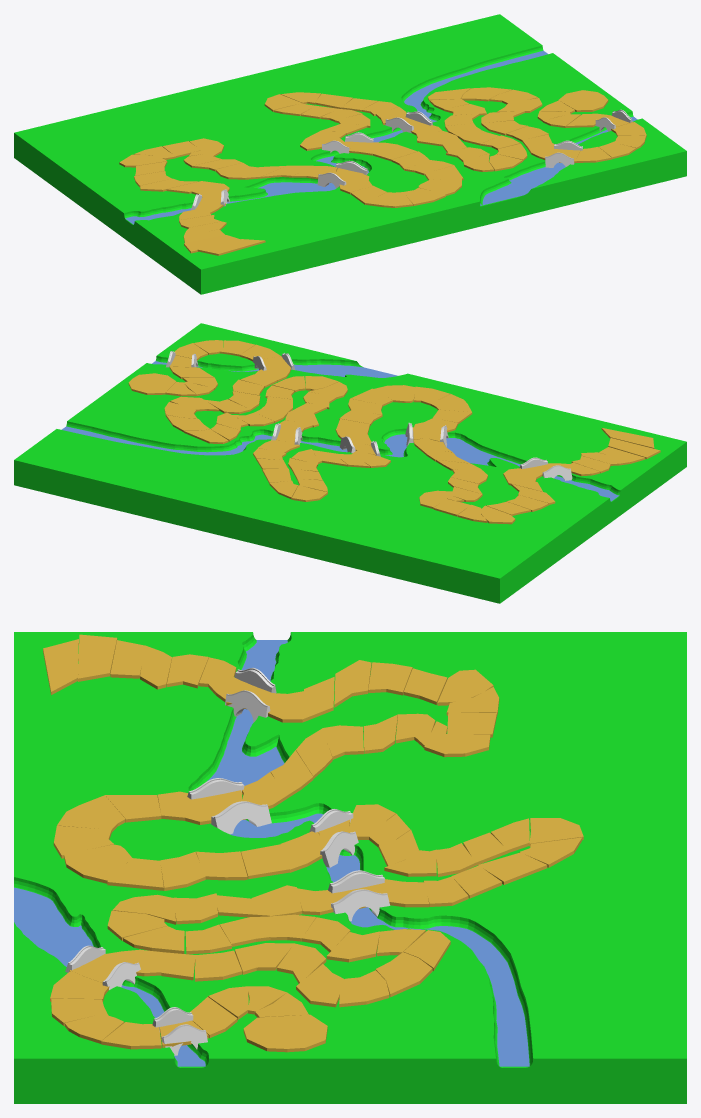
Rendered from MapaFinal.glb.
3 views of the same model, one above another, from view 1: azimuth 30°, elevation 25°; view 2: azimuth 150°, elevation 25°; view 3: azimuth 270°, elevation 25° (orthographic). The views are drawn at different scales.
Visible parts, largest first — view 1: TableroBase, Casillas, Agua; view 2: TableroBase, Casillas, Agua; view 3: TableroBase, Casillas, Agua, Cube.003, Cube.008, Cube.001, Cube.006, Cube.007, Cube.012, Cube.004.
Boxes of the visible parts, left/top/right/bottom form: TableroBase: left=14, top=14, right=686, bottom=294; Casillas: left=119, top=87, right=646, bottom=255; Agua: left=125, top=50, right=637, bottom=224; TableroBase: left=14, top=323, right=686, bottom=603; Casillas: left=128, top=340, right=660, bottom=524; Agua: left=61, top=361, right=619, bottom=501; TableroBase: left=14, top=632, right=686, bottom=1103; Casillas: left=43, top=634, right=583, bottom=1052; Agua: left=14, top=640, right=529, bottom=1066; Cube.003: left=211, top=801, right=271, bottom=834; Cube.008: left=331, top=889, right=390, bottom=921; Cube.001: left=225, top=690, right=270, bottom=722; Cube.006: left=320, top=831, right=358, bottom=867; Cube.007: left=328, top=870, right=384, bottom=893; Cube.012: left=161, top=1024, right=207, bottom=1055; Cube.004: left=187, top=778, right=244, bottom=799.
Size of the model in its own units: 72 by 5.04 by 48.
